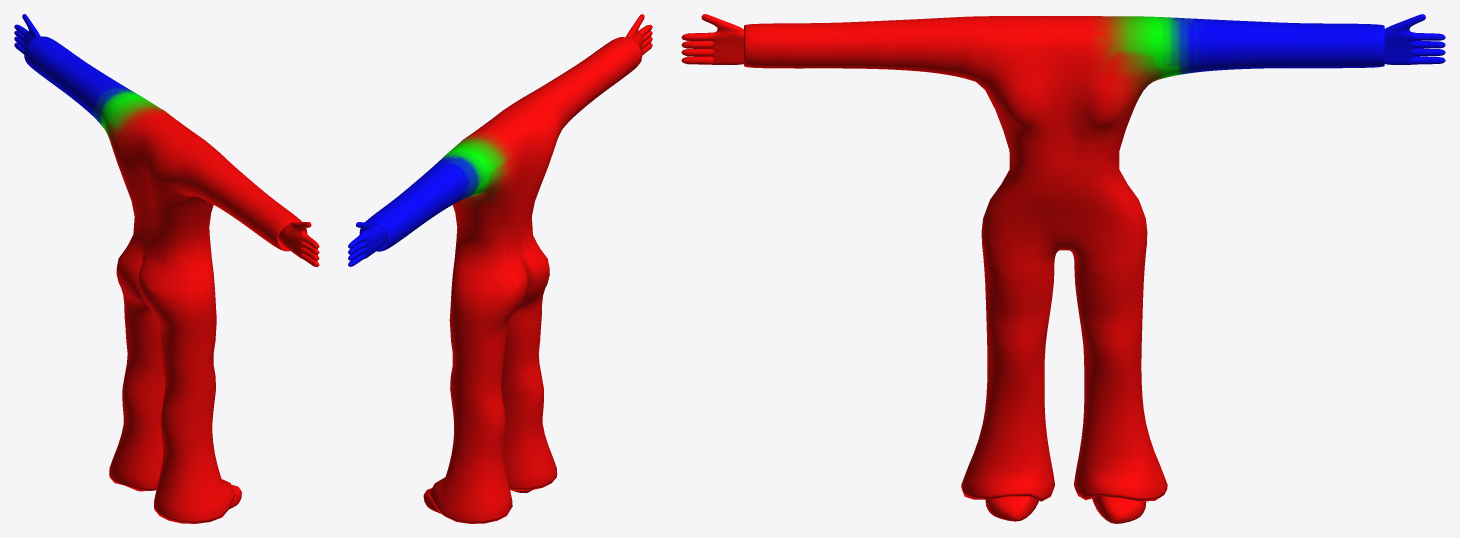
File: female3.obj
3 renders of one model, left to right at view 1: azimuth 30°, elevation 25°; view 2: azimuth 150°, elevation 25°; view 3: azimuth 270°, elevation 25°, orthographic. The views are drawn at different scales.
Size of the model in its own units: 3.71 by 15.26 by 22.
1 material, 1 textured.
